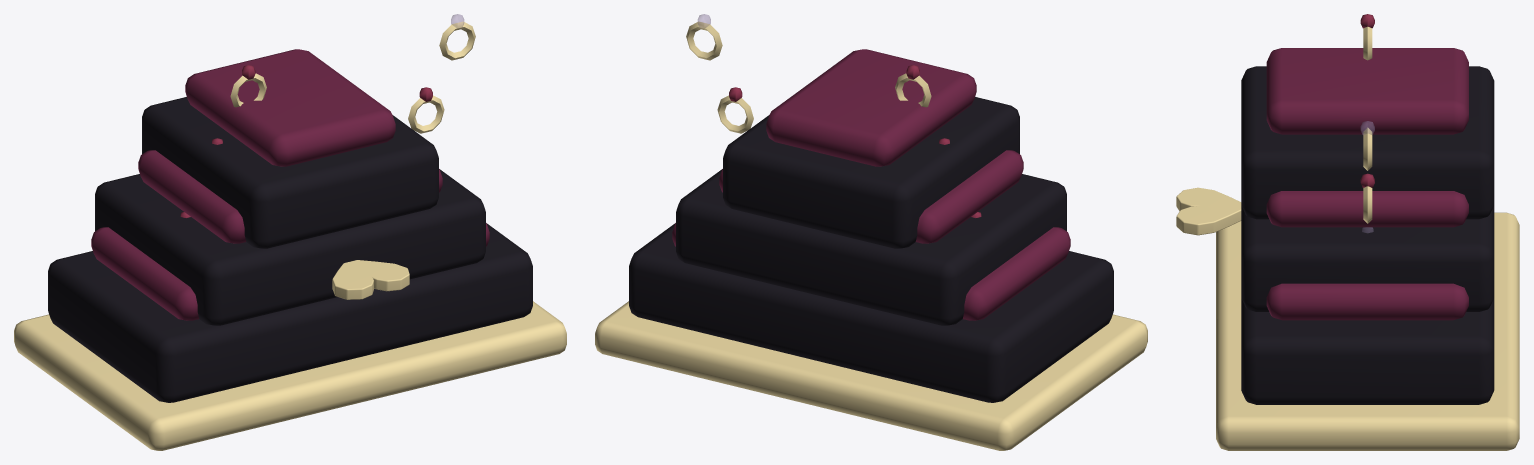
Rendered from ring_tree_stand.glb.
The picture shows the model from 3 angles, left to right: view 1: azimuth 30°, elevation 25°; view 2: azimuth 150°, elevation 25°; view 3: azimuth 270°, elevation 25°; orthographic projection. The views are drawn at different scales.
Visible parts, largest first — view 1: ring_tree_stand; view 2: ring_tree_stand; view 3: ring_tree_stand.
Boxes of the visible parts, x1,y1,x2,y2 form: ring_tree_stand: [14, 14, 566, 450]; ring_tree_stand: [595, 14, 1147, 450]; ring_tree_stand: [1176, 14, 1519, 450].
Bounding box in the file's own units: 0.4 × 0.2735 × 0.2713.
